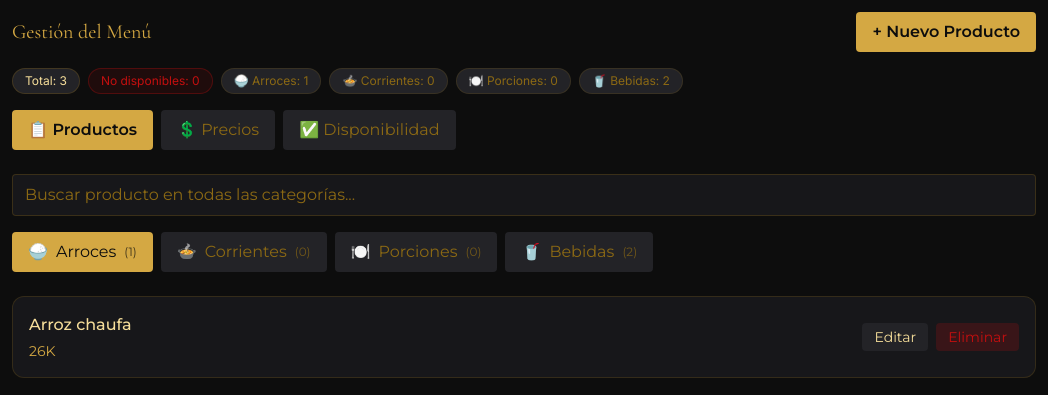
el buscador filtra en todas las categorías y oculta las pestañas
The image size is (1048, 395).
In the search field named "Buscar productos": point(524, 195) [12, 174, 1036, 216], type "coca"
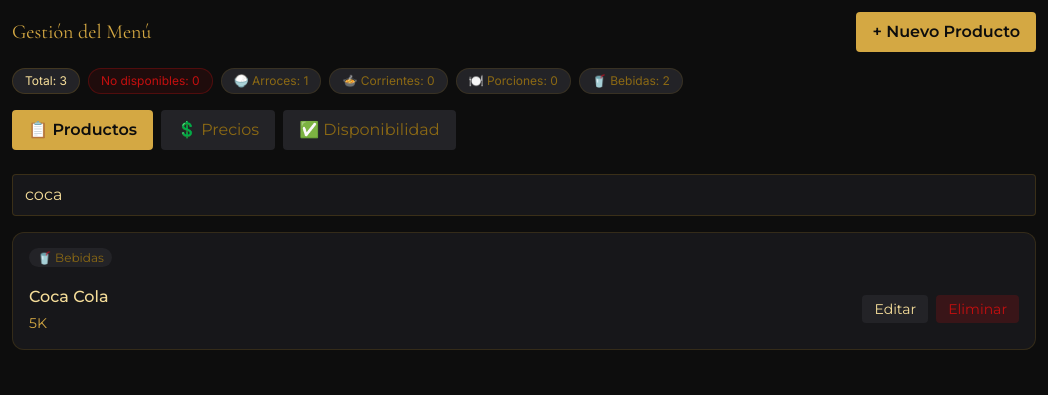
Expected: the text "🥤 Bebidas" is shown, [29, 248, 112, 267]
Now the text "Coca Cola" is shown, box [29, 285, 108, 309]
